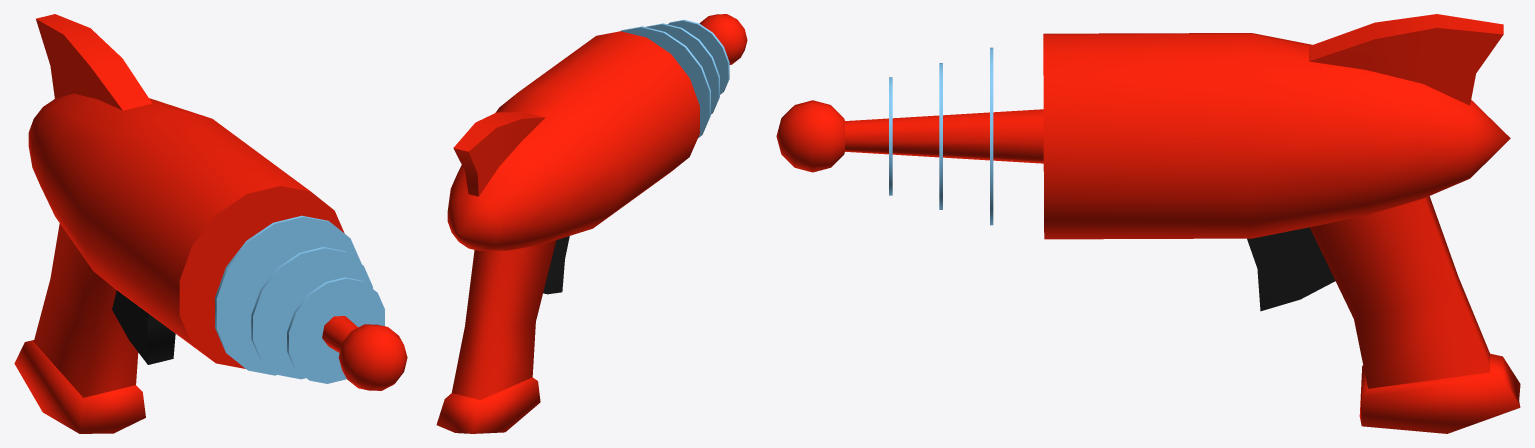
File: Gun.fbx
The picture shows the model from 3 angles, left to right: view 1: azimuth 30°, elevation 25°; view 2: azimuth 150°, elevation 25°; view 3: azimuth 270°, elevation 25°; orthographic projection. The views are drawn at different scales.
Visible parts, largest first — view 1: Weapon; view 2: Weapon; view 3: Weapon.
Part boxes in pixels (bbox=[...]): Weapon: bbox=[14, 14, 407, 433]; Weapon: bbox=[436, 14, 747, 433]; Weapon: bbox=[776, 14, 1520, 433].
Bounding box in the file's own units: 0.554 × 2.02 × 1.19.
